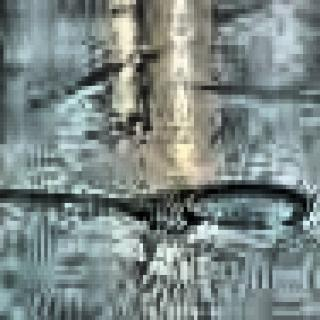crack: (0, 180, 119, 203)
pothole: (183, 179, 309, 226)
